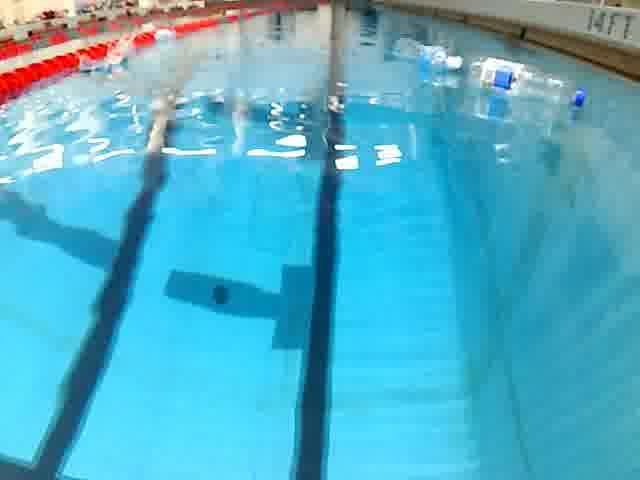Bottle: (464, 53, 590, 109), (383, 29, 468, 73)
